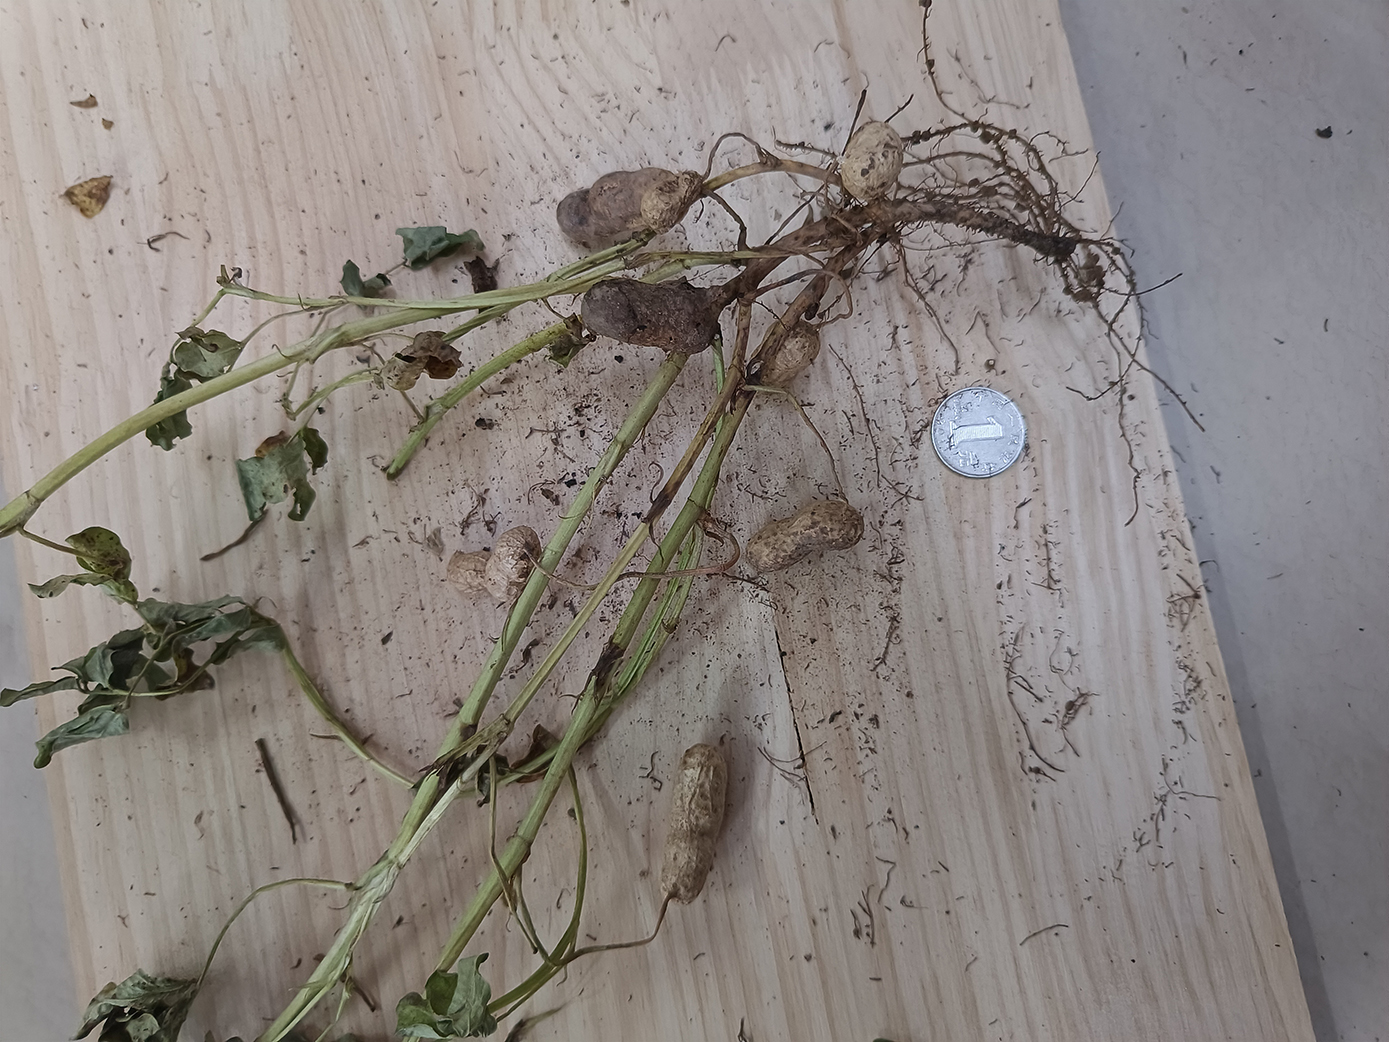h: (661, 745, 730, 907), (745, 501, 864, 575), (447, 524, 542, 604), (840, 121, 902, 198), (761, 322, 817, 392), (643, 175, 698, 229)
l: (581, 280, 716, 354), (557, 167, 639, 239)
